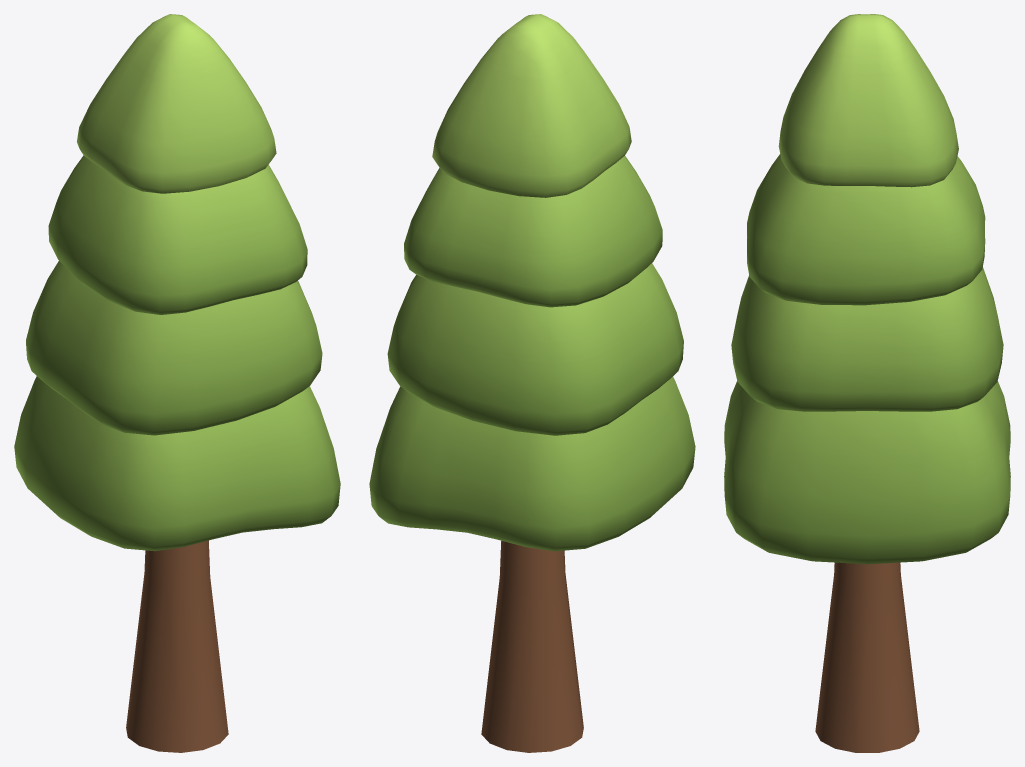
The model's file is Tree_Long.glb.
3 renders of one model, left to right at view 1: azimuth 30°, elevation 25°; view 2: azimuth 150°, elevation 25°; view 3: azimuth 270°, elevation 25°, orthographic.
Visible parts, largest first — view 1: tree_two; view 2: tree_two; view 3: tree_two.
Part boxes in pixels (x1,y1,x2,y2): tree_two: (14,14,340,752); tree_two: (369,14,695,752); tree_two: (724,14,1010,752).
Bounding box in the file's own units: 2.42 × 6.5 × 2.36.
1 material, 1 textured.
